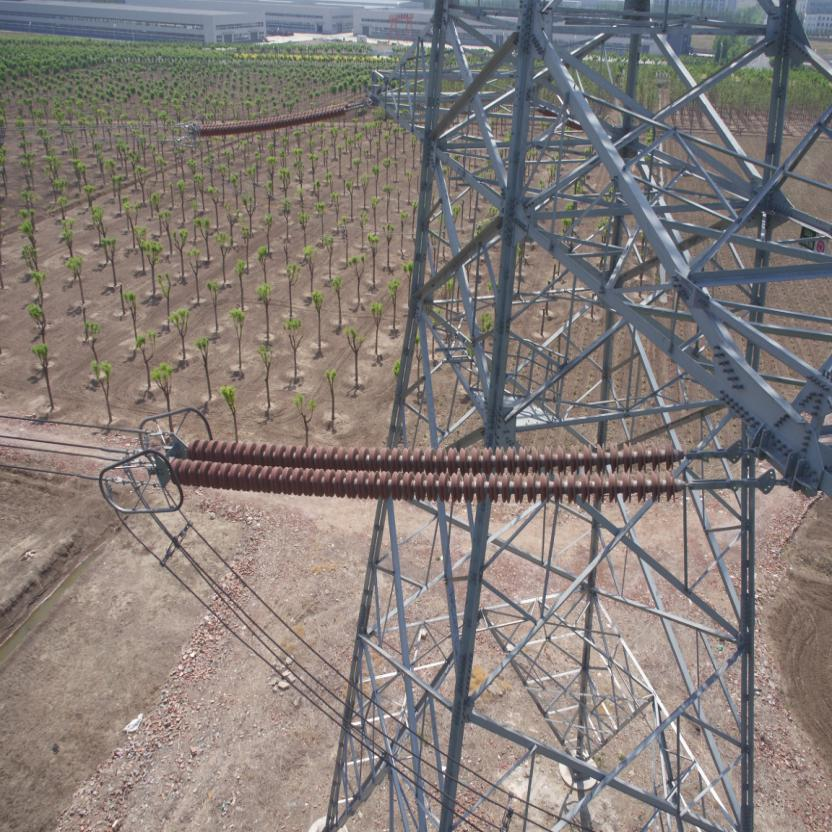insulator: (160, 432, 717, 504), (190, 96, 358, 139)
